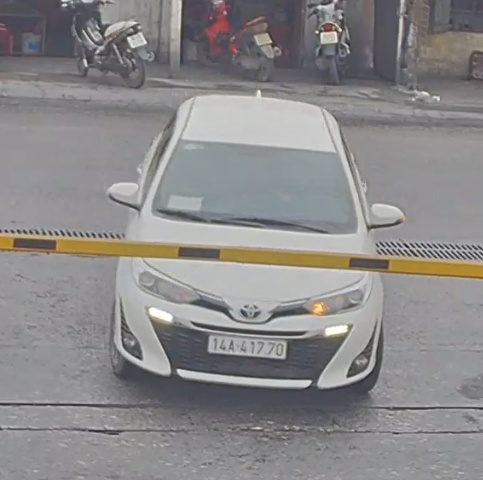vehicle plate: (203, 330, 295, 363)
